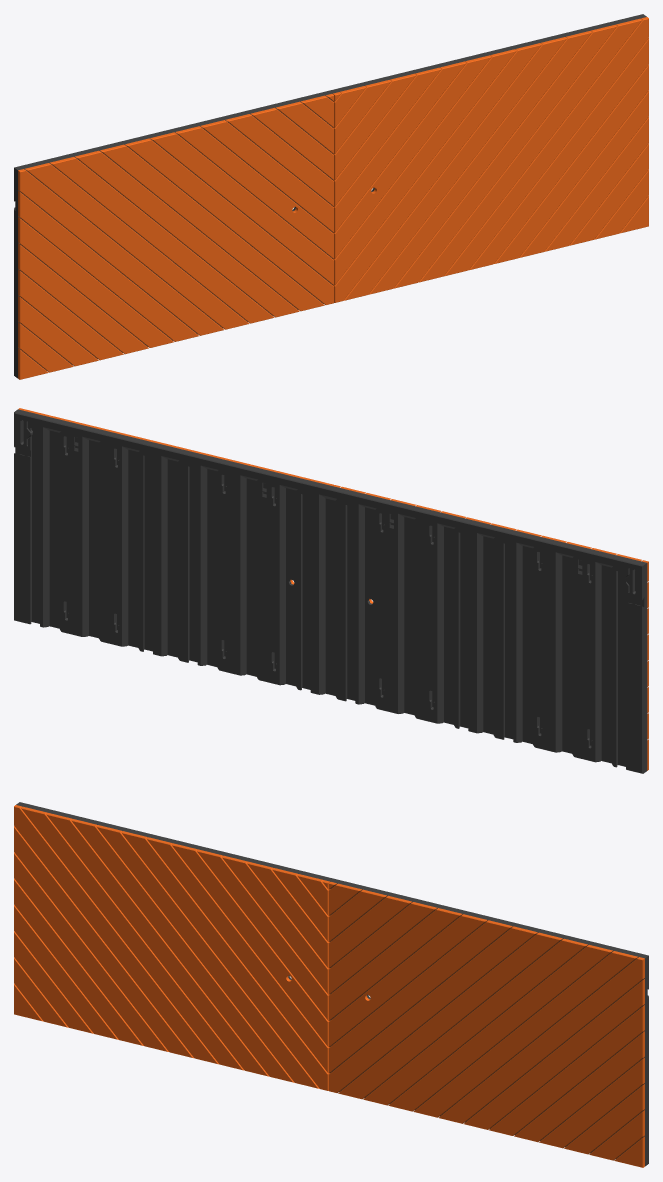
The model's file is Faceplate_Chevron_4W-2H.lib.glb.
3 views of the same model, one above another, from view 1: azimuth 30°, elevation 25°; view 2: azimuth 150°, elevation 25°; view 3: azimuth 330°, elevation 25° (orthographic).
Visible parts, largest first — view 1: Faceplate_Chevron_4W-2H; view 2: Faceplate_Chevron_4W-2H; view 3: Faceplate_Chevron_4W-2H.
Part boxes in pixels (x1=…): Faceplate_Chevron_4W-2H: x1=14, y1=14, x2=648, y2=379; Faceplate_Chevron_4W-2H: x1=14, y1=408, x2=648, y2=773; Faceplate_Chevron_4W-2H: x1=14, y1=802, x2=648, y2=1167.
Bounding box in the file's own units: 351 × 111 × 6.21.
